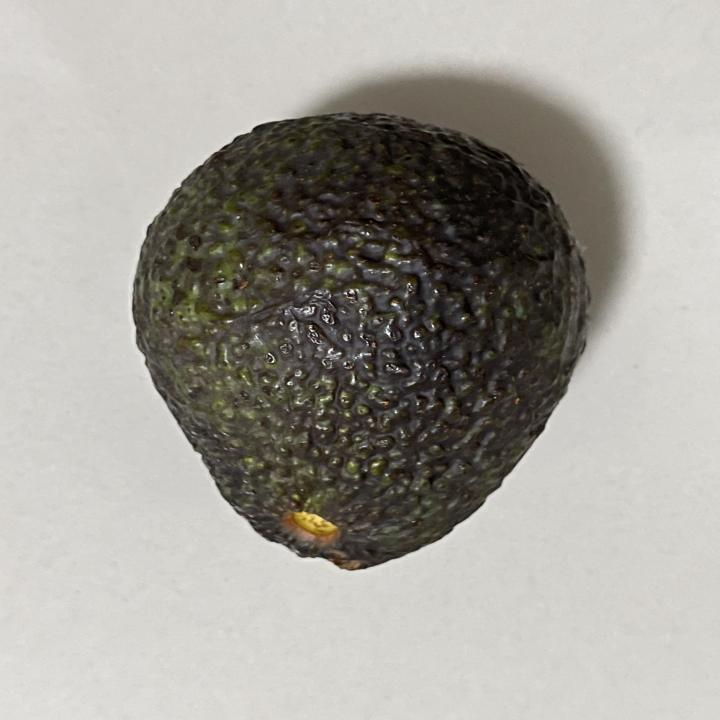Level1: (116, 98, 598, 588)
